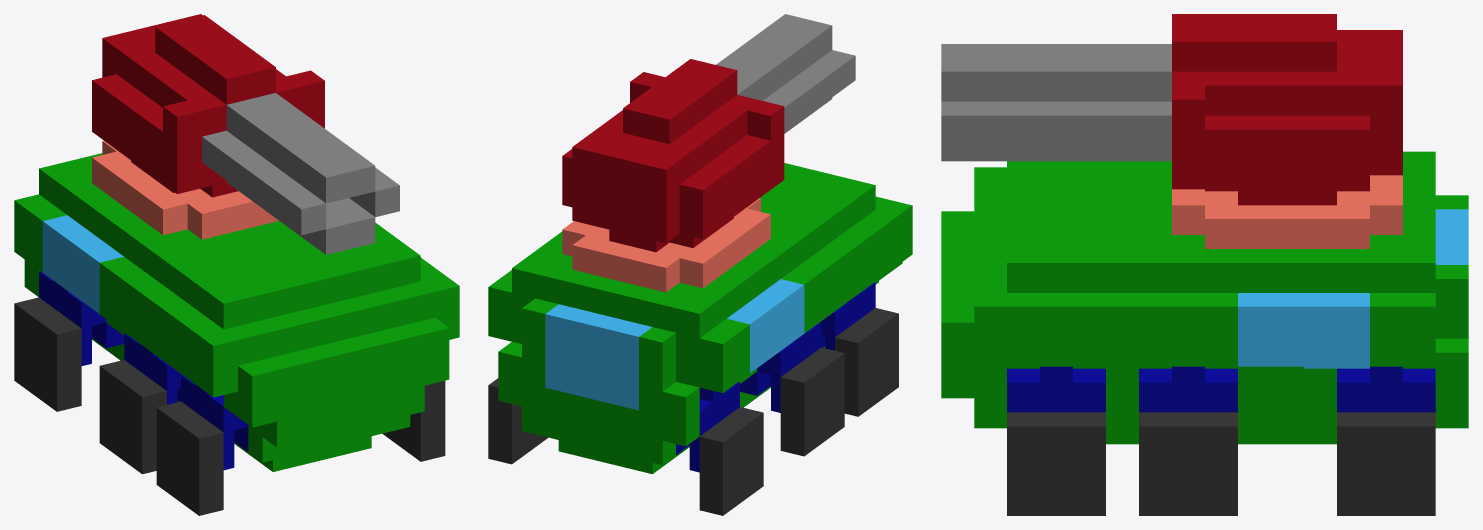
File: Compound_4.fbx
3 renders of one model, left to right at view 1: azimuth 30°, elevation 25°; view 2: azimuth 150°, elevation 25°; view 3: azimuth 270°, elevation 25°, orthographic. The views are drawn at different scales.
Visible parts, largest first — view 1: Base, Compound_2, Tourelle, Canon, Moteur; view 2: Base, Tourelle, Compound_2, Moteur, Canon; view 3: Base, Compound_2, Tourelle, Canon, Moteur.
Boxes of the visible parts, x1,y1,x2,y2 form: Base: (14, 141, 459, 471); Compound_2: (14, 271, 445, 515); Tourelle: (92, 14, 324, 197); Canon: (202, 93, 399, 254); Moteur: (42, 215, 123, 313); Base: (488, 163, 912, 474); Tourelle: (562, 59, 784, 252); Compound_2: (488, 283, 898, 515); Moteur: (545, 279, 804, 410); Canon: (716, 14, 855, 133); Base: (941, 151, 1468, 444); Compound_2: (1007, 366, 1435, 515); Tourelle: (1172, 14, 1402, 205); Canon: (941, 44, 1171, 161); Moteur: (1238, 209, 1468, 368).
Size of the model in its own units: 10 by 14 by 16.
